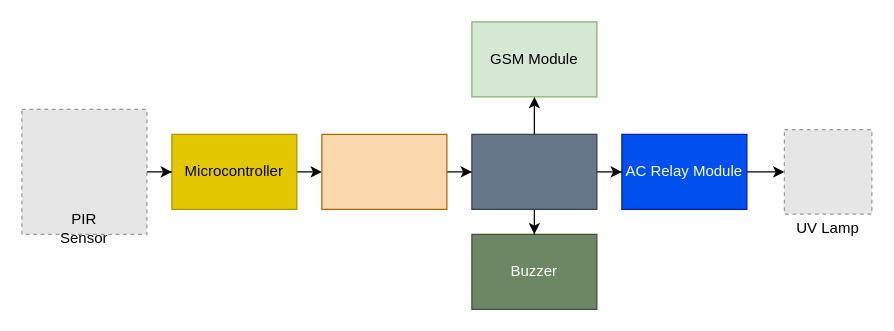
Some shapes in this 894 by 331 pixel diagram are drawn without their labels. Grey dashed boxes stand in for pictures. The box of each missing label's shape, as (x1, y1, x2, y2) in pixels:
I2C 16*2 LCD Display: (321, 133, 447, 209)
Timer: (471, 133, 597, 209)
